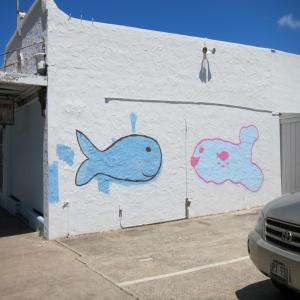Vehicle-registration-plate: (269, 257, 291, 287)
